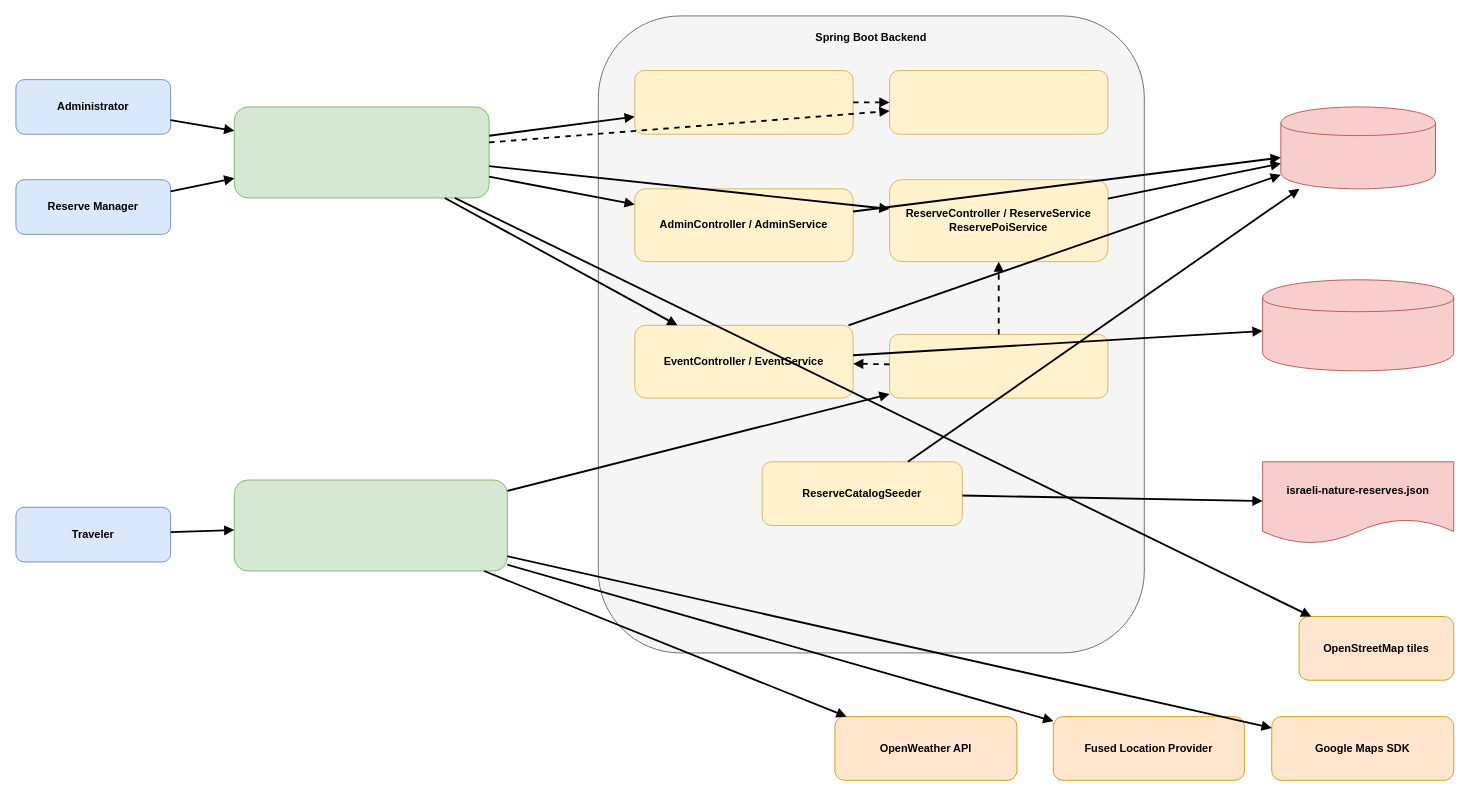
This 1470x796 diagram has some shape labels left out. The centre of each missing label's shape, as x and y in pixels:
"Android App MainActivity + Controllers + ApiClients" belongs at [370,525].
"AuthController / AuthService" belongs at [998,102].
"PostgreSQL" belongs at [1358,147].
"PublicTravelerController" belongs at [998,366].
"SecurityConfig + JWT Filter" belongs at [743,102].
"uploads/traveler-media" belongs at [1358,325].
"Web App React + Vite + Axios + Leaflet" belongs at [361,152].
